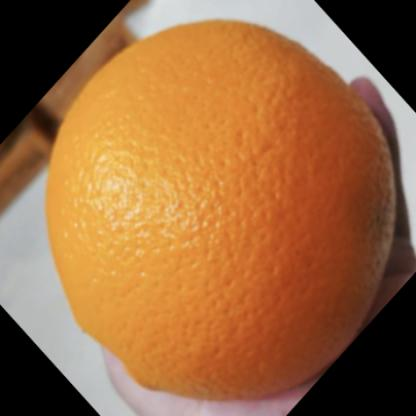fresh: (47, 21, 396, 397)
